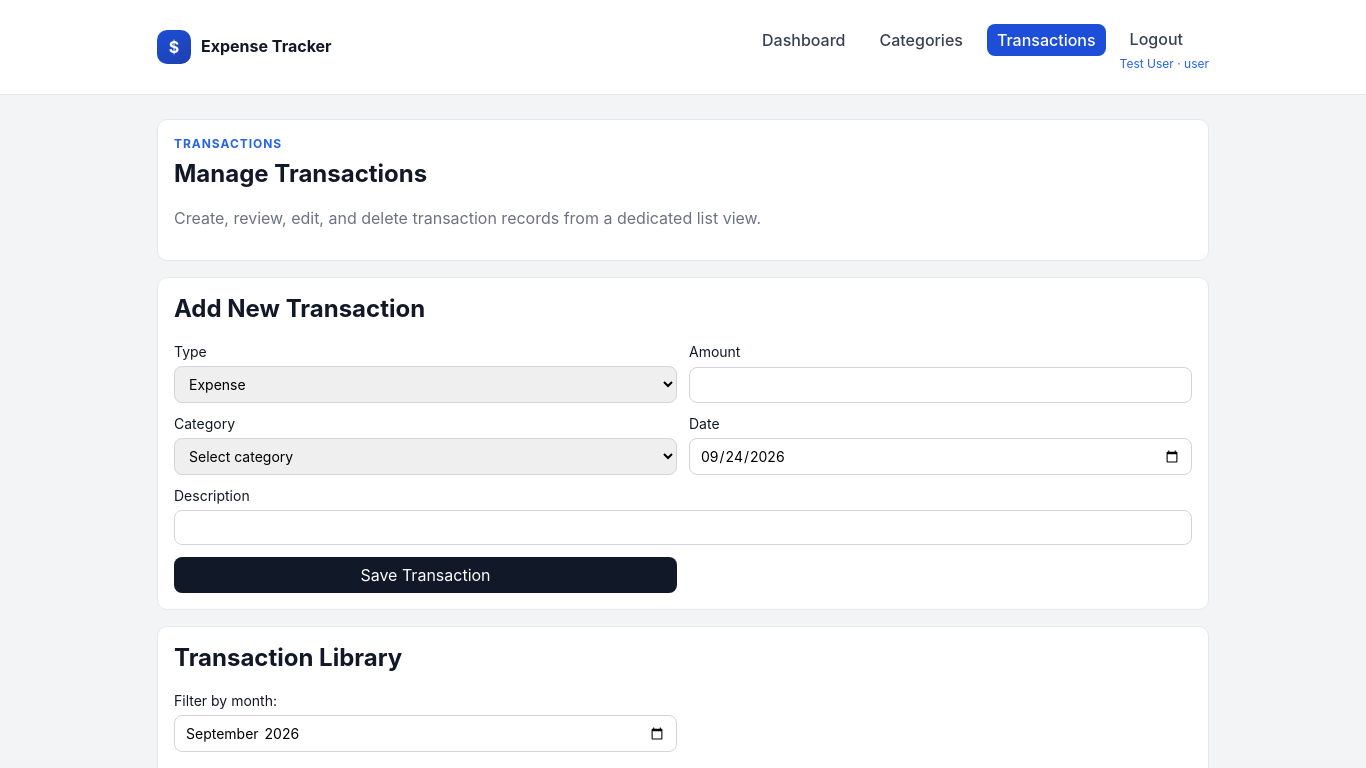
Test: App › renders transactions page and creates a transaction
Check: the heading "Manage Transactions" is shown, box [174, 159, 427, 188]
Select "Income" in the dropdown labelled "Type" at (426, 385), box [174, 366, 677, 403]
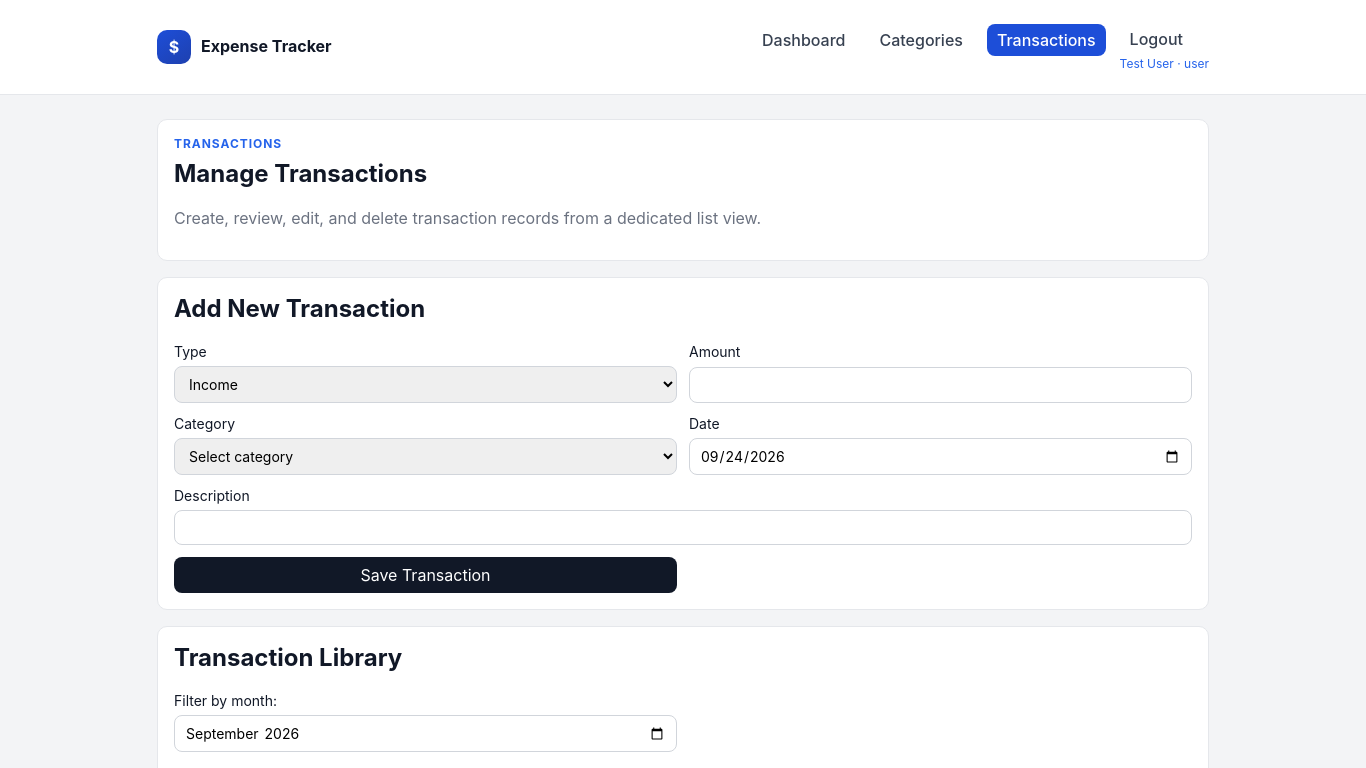
Type "1200" into the number field labelled "Amount" at (940, 385), box [689, 367, 1192, 403]
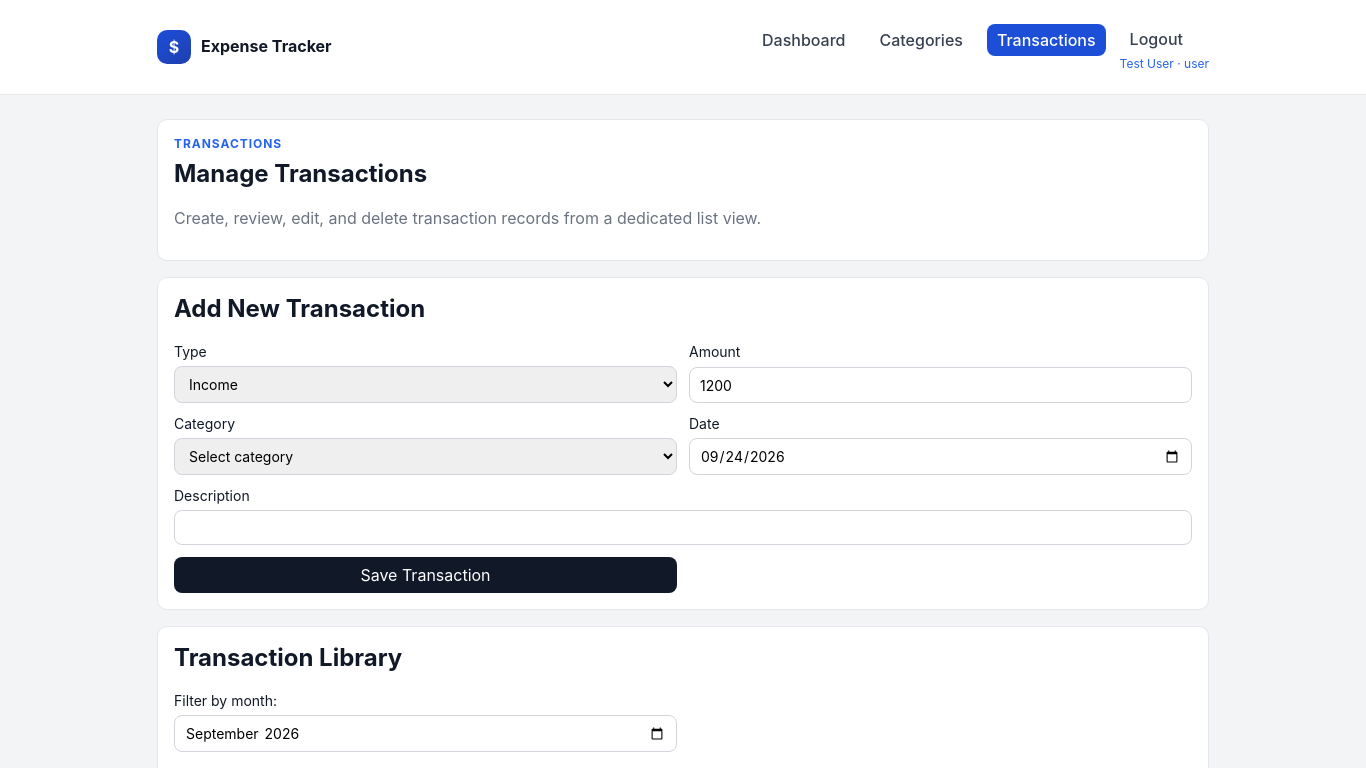
Select "Salary" in the dropdown labelled "Category" at (426, 457), box [174, 438, 677, 475]
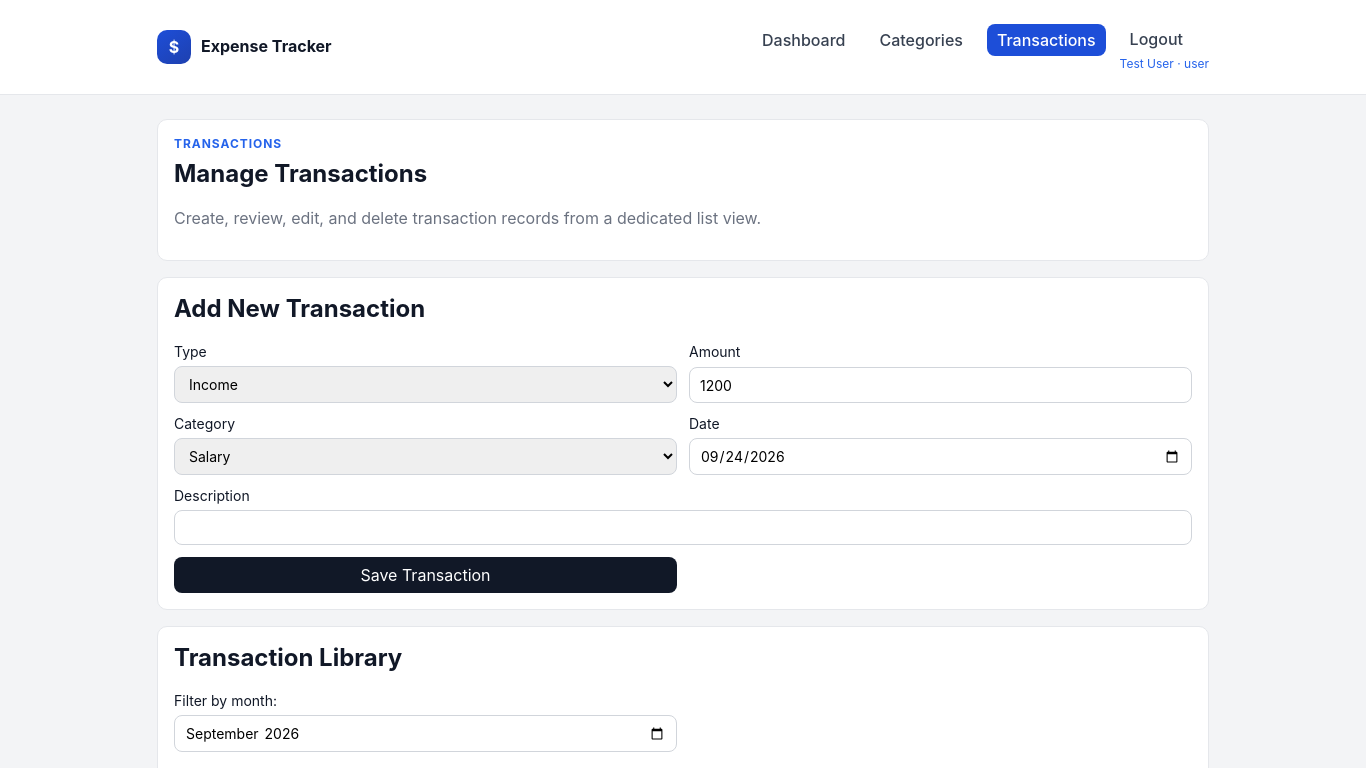
Type "Payday" into the field labelled "Description" at (683, 528), box [174, 510, 1192, 545]
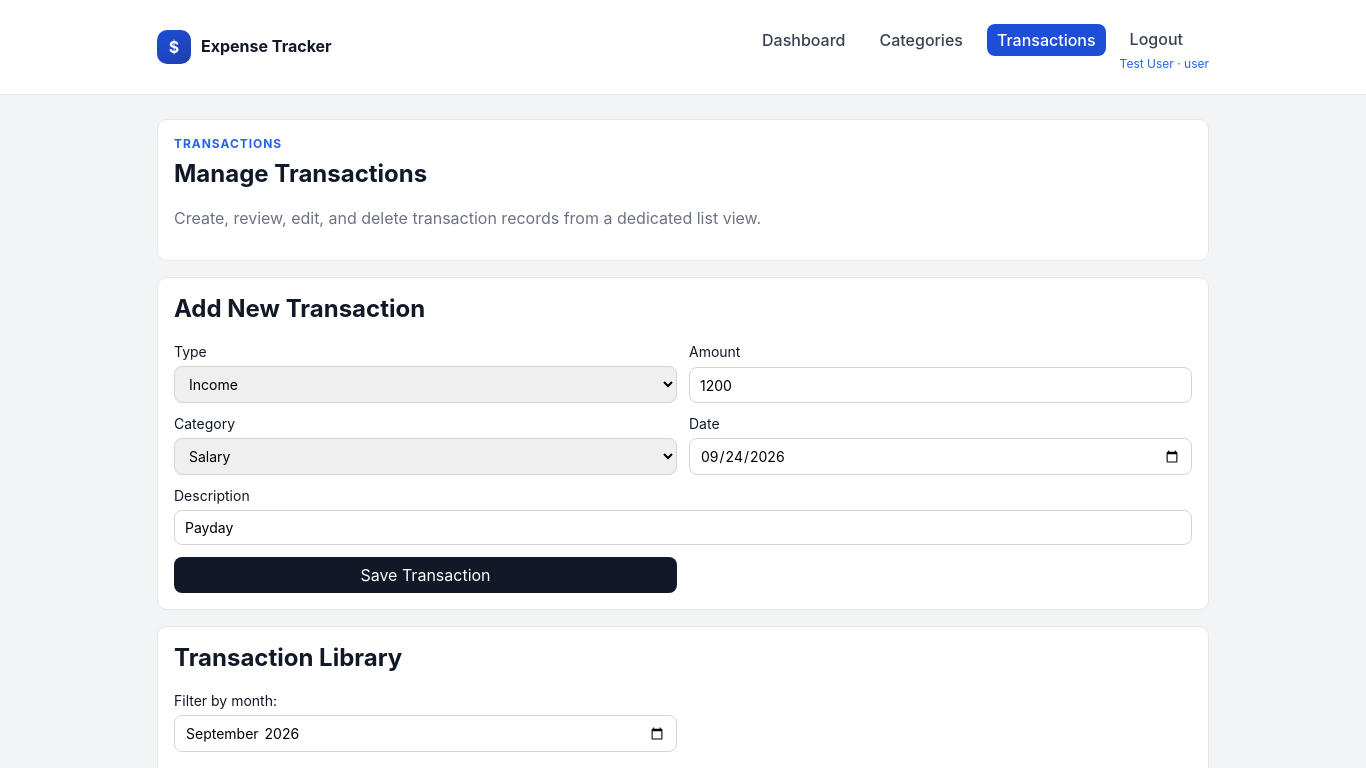
Click the button "Save Transaction" at (426, 575), box [174, 557, 677, 593]
(page scrolled)
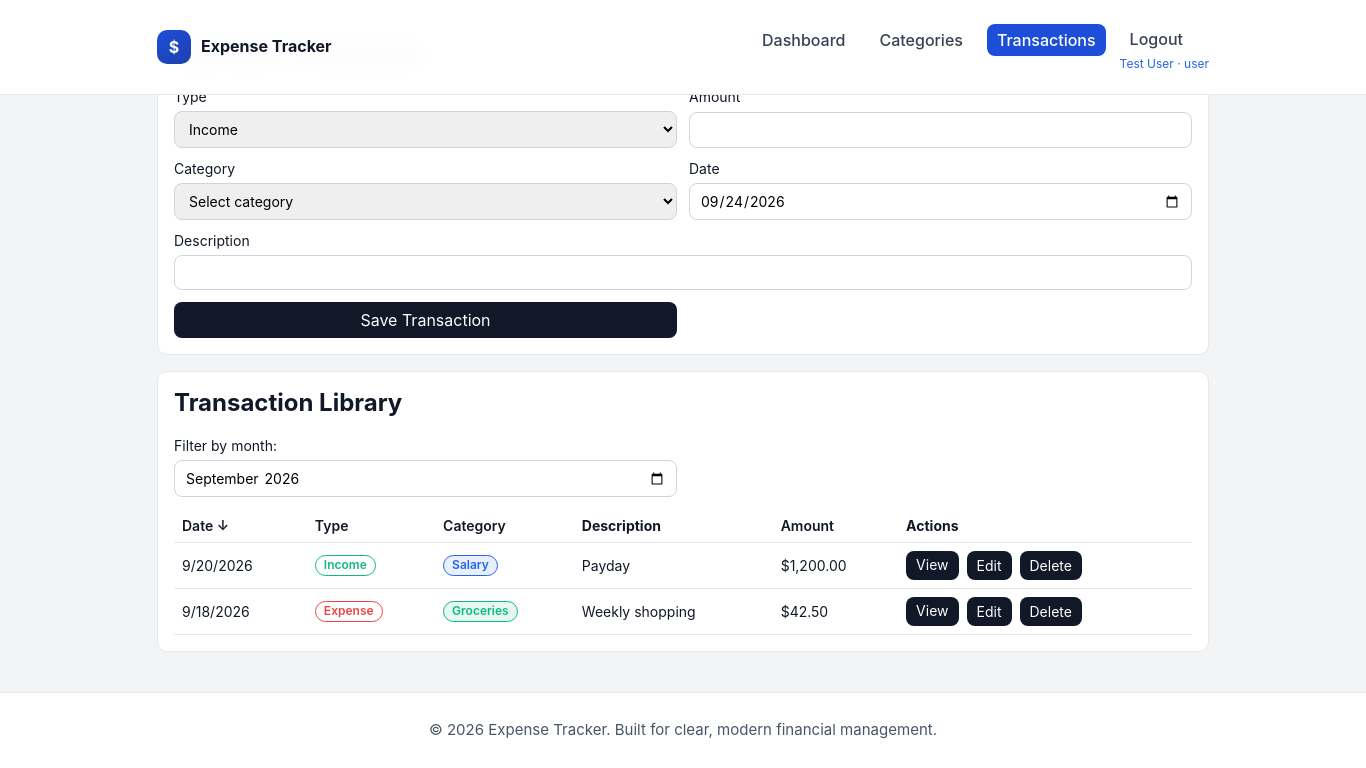
Check: the text "Payday" is shown, box [574, 543, 773, 589]
Check: the link "View" in the row of "9/20/2026" is shown, box [906, 551, 958, 580]
